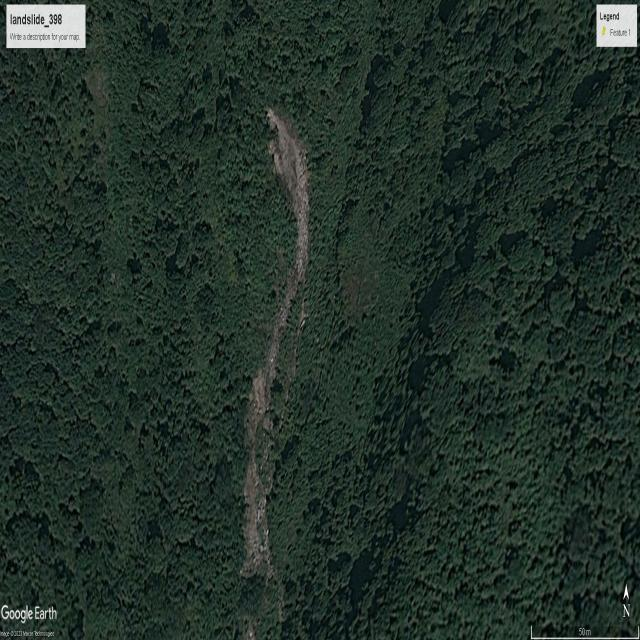Landslide: (232, 96, 312, 604)
